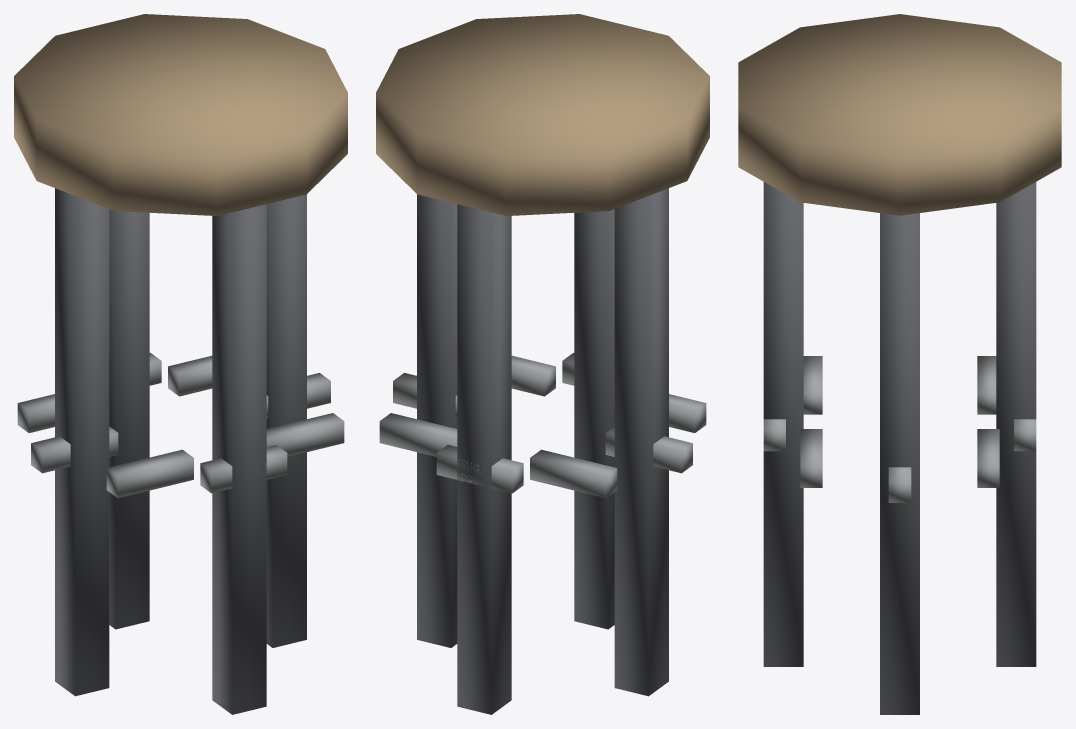
The model's file is counter_stool__compact.glb.
The picture shows the model from 3 angles, left to right: view 1: azimuth 30°, elevation 25°; view 2: azimuth 150°, elevation 25°; view 3: azimuth 270°, elevation 25°; orthographic projection.
Parts seen in each view (by area): view 1: world; view 2: world; view 3: world.
Boxes of the visible parts, box(x1,y1,x2,y2) form: world: box(14, 14, 347, 714); world: box(376, 14, 709, 714); world: box(738, 14, 1061, 714).
Size of the model in its own units: 0.3192 by 0.6091 by 0.3108.
